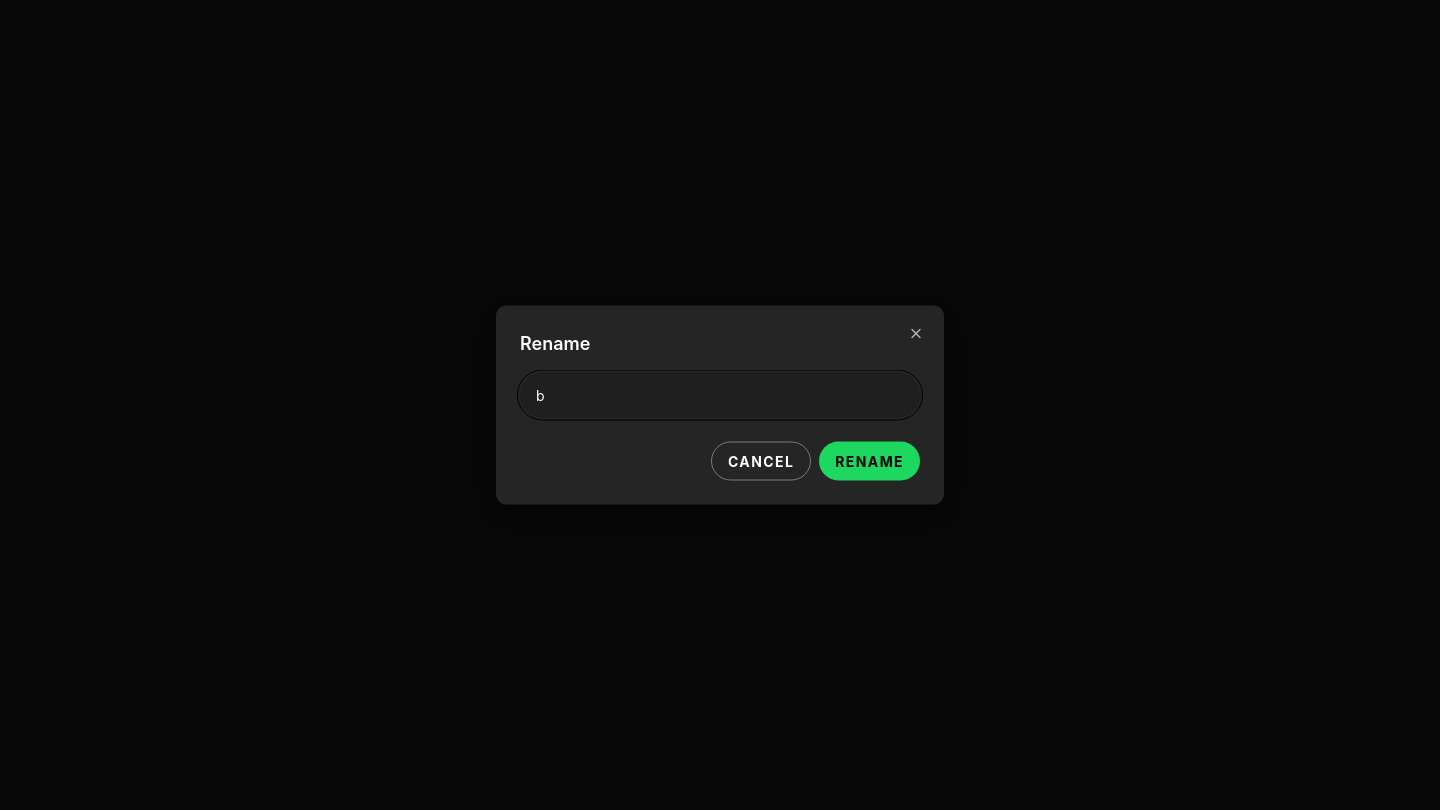
Scenario: RenameDialog › shows inline error on other API errors
Replace the text in the field with "c" at (720,395), box [520, 372, 920, 418]
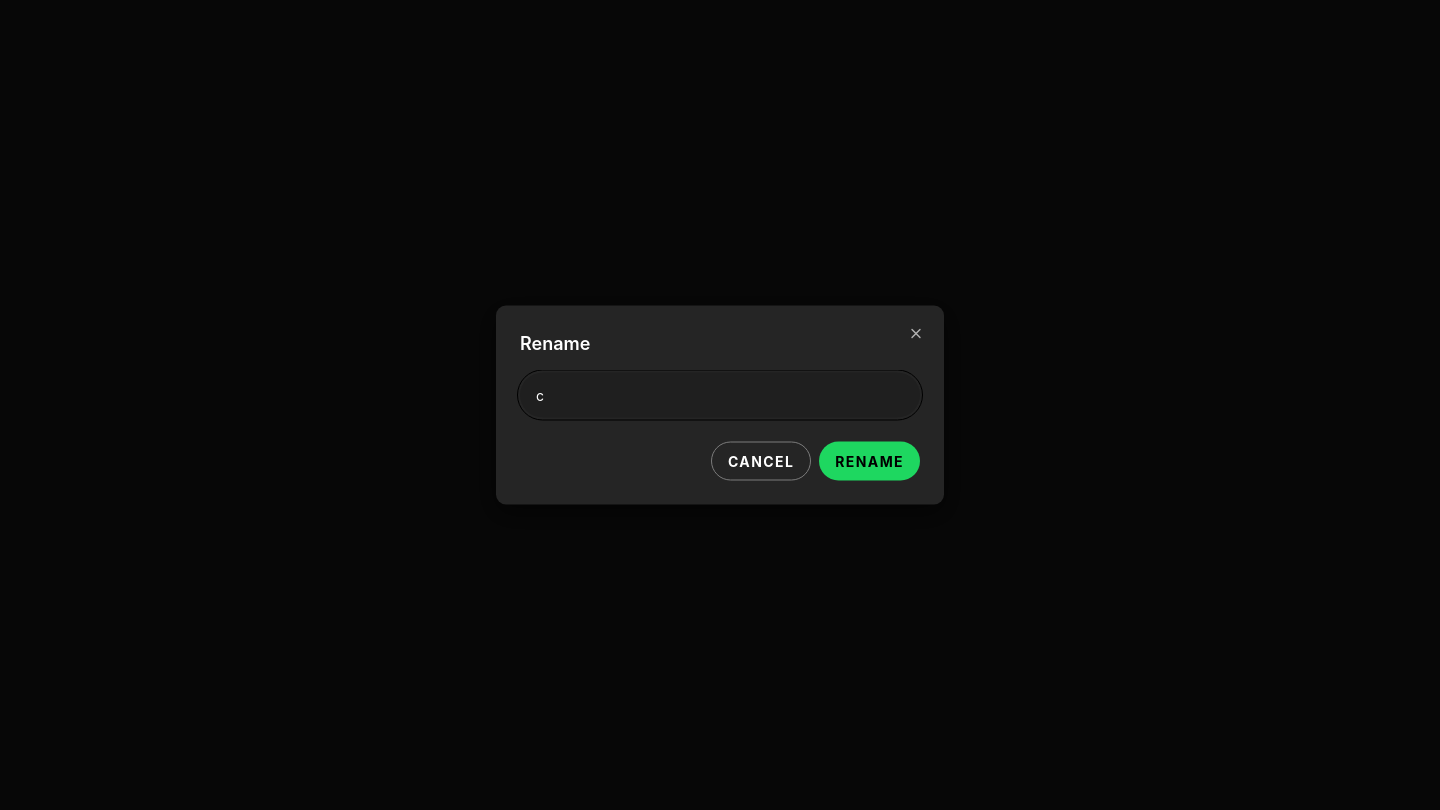
Click the button "Rename".
click(870, 461)  # box [819, 442, 920, 480]
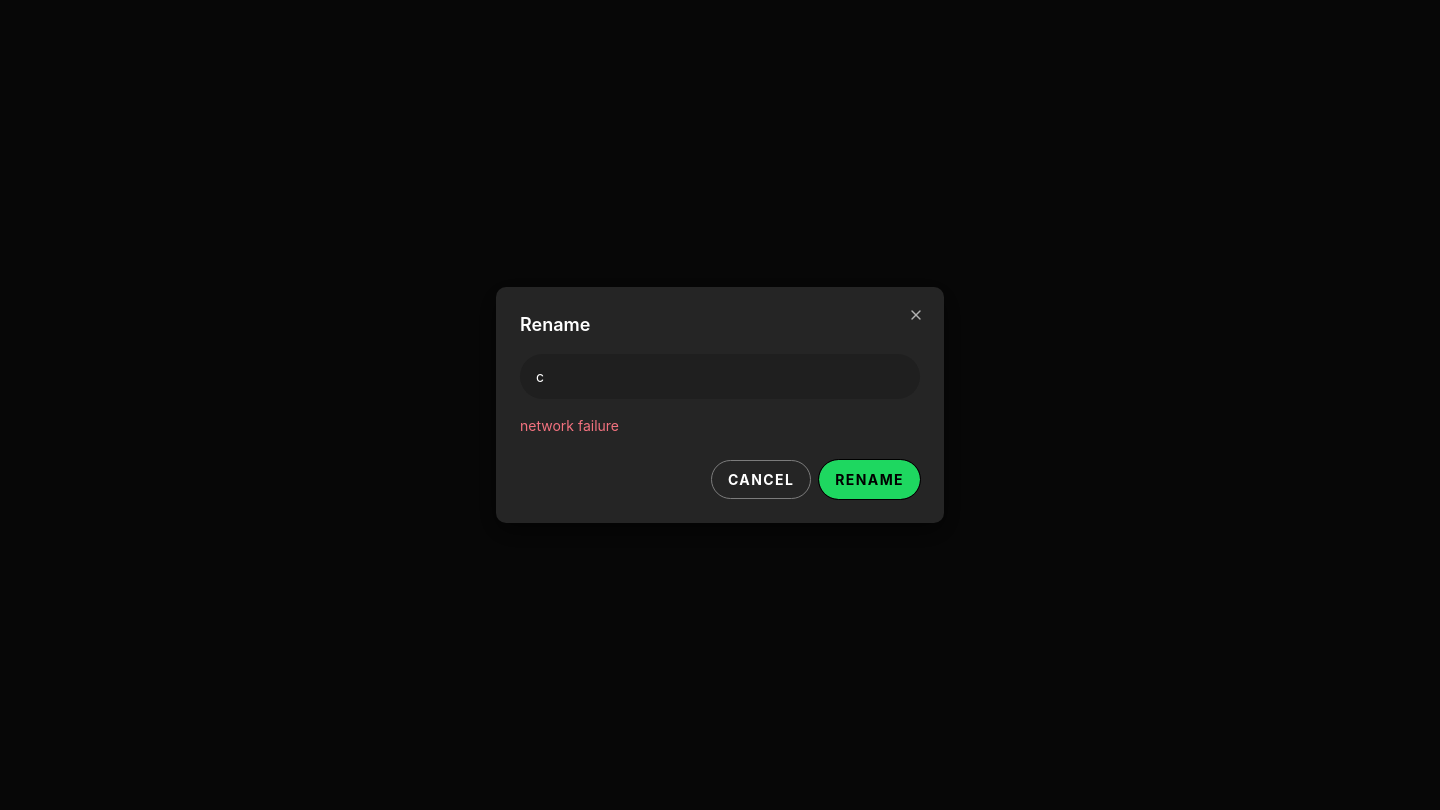
Check: the text "network failure" is shown, box [520, 417, 619, 434]
